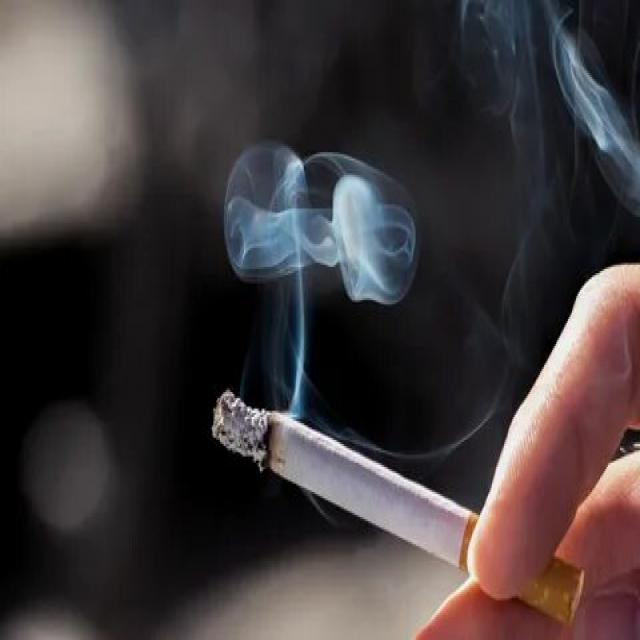cigarette: (209, 382, 588, 632)
